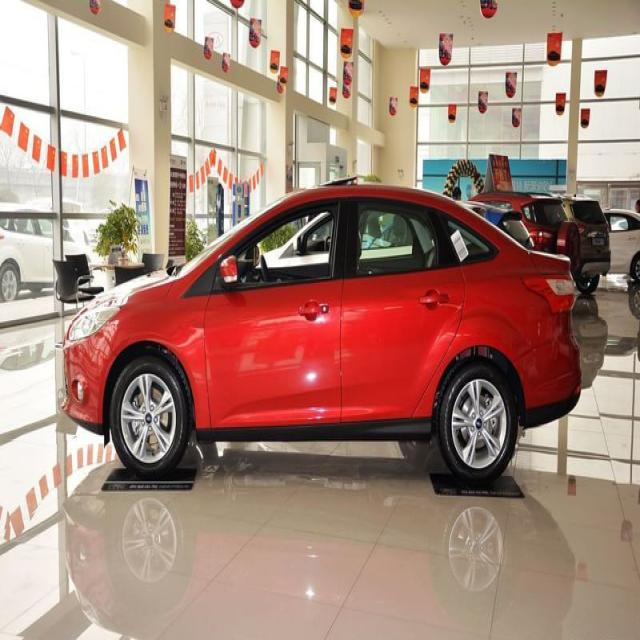back_left_side_light: (522, 268, 578, 315)
door: (339, 189, 467, 424)
front_bumper: (62, 334, 112, 430)
front_left_side_door: (202, 188, 344, 438)
front_left_side_light: (67, 299, 122, 342)
front_left_side_mirror: (218, 250, 240, 291)
rear_bumper: (518, 311, 584, 427)
wheel: (442, 361, 516, 484), (114, 356, 183, 477)
